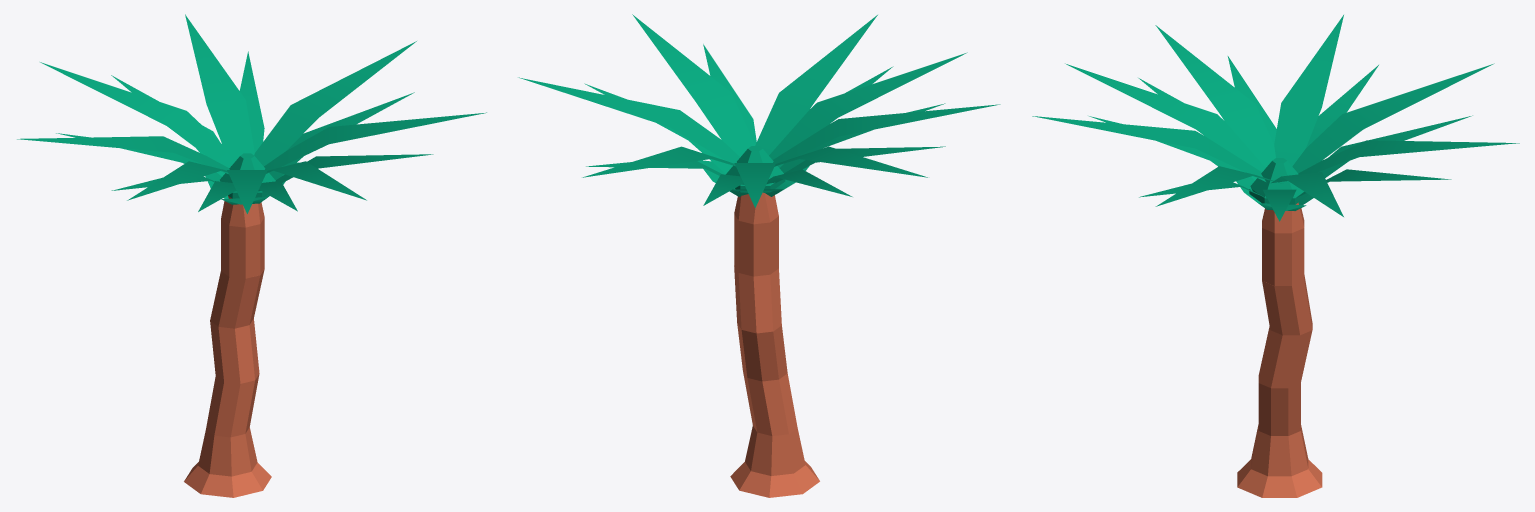
The model's file is PalmTree2.fbx.
3 renders of one model, left to right at view 1: azimuth 30°, elevation 25°; view 2: azimuth 150°, elevation 25°; view 3: azimuth 270°, elevation 25°, orthographic. The views are drawn at different scales.
Parts seen in each view (by area): view 1: plant_smallLeaf (×12), trunk_skew (×3), trunk_base, trunk, trunk_taper, leafs_pineA; view 2: plant_smallLeaf (×13), trunk_skew (×3), trunk_base, trunk, trunk_taper, leafs_pineA, plant_small; view 3: plant_smallLeaf (×14), trunk_skew (×3), trunk_base, trunk, leafs_pineA, trunk_taper.
Boxes of the visible parts, <box> form: plant_smallLeaf (×12): <box>17,14,486,213</box>; trunk_skew (×3): <box>206,269,264,437</box>; trunk_base: <box>184,427,271,497</box>; trunk: <box>221,217,264,278</box>; trunk_taper: <box>221,196,264,227</box>; leafs_pineA: <box>220,153,275,198</box>; plant_smallLeaf (×13): <box>518,14,1000,207</box>; trunk_skew (×3): <box>734,266,797,435</box>; trunk_base: <box>730,426,819,497</box>; trunk: <box>734,214,778,276</box>; trunk_taper: <box>734,192,778,224</box>; leafs_pineA: <box>726,146,785,192</box>; plant_small: <box>697,160,809,196</box>; plant_smallLeaf (×14): <box>1032,15,1519,221</box>; trunk_skew (×3): <box>1258,275,1312,435</box>; trunk_base: <box>1237,424,1322,497</box>; trunk: <box>1262,228,1304,285</box>; leafs_pineA: <box>1249,158,1308,204</box>; trunk_taper: <box>1262,202,1304,233</box>.
Size of the model in its own units: 41.32 by 35.4 by 42.05.
